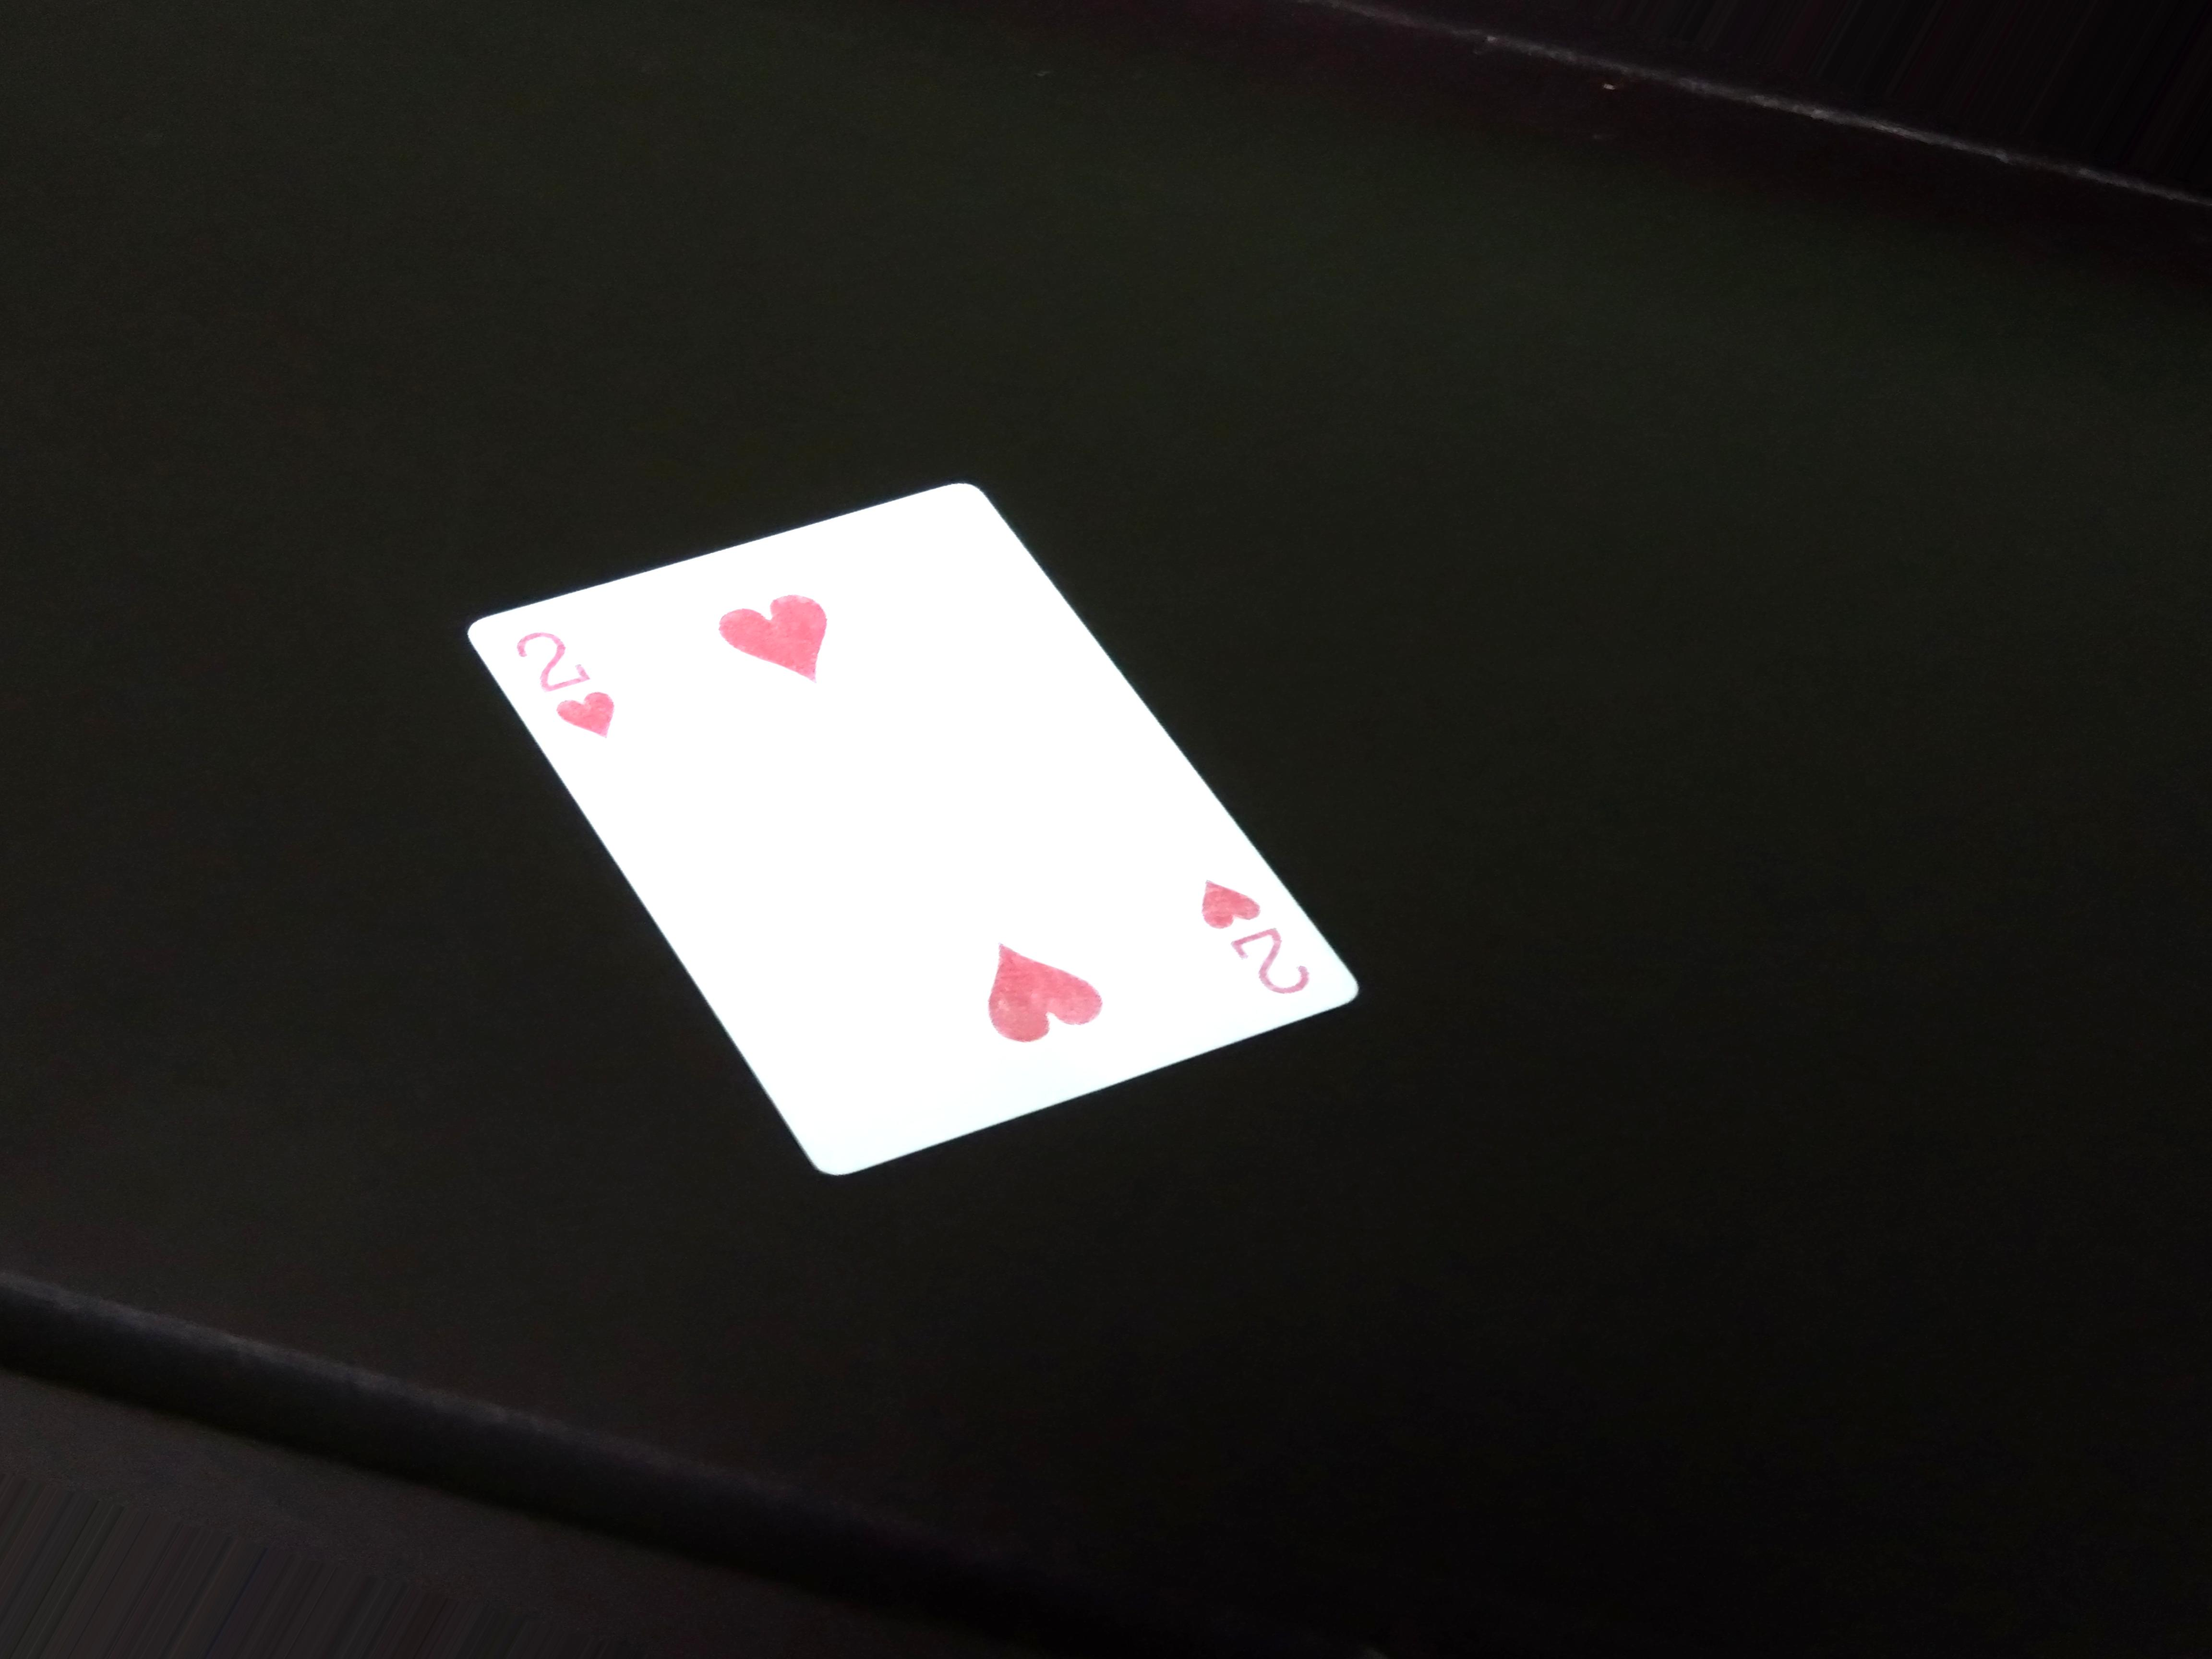2H: (486, 619, 655, 760)
